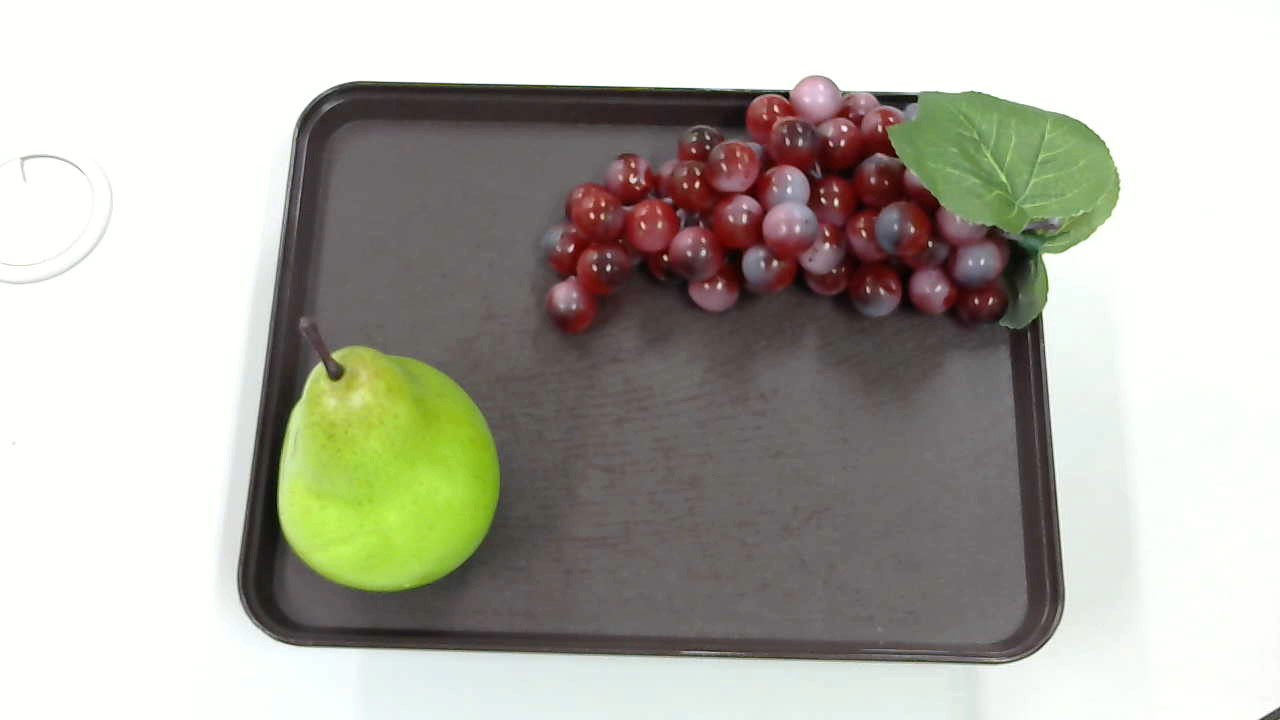grape: (524, 74, 1122, 364)
green pear: (274, 307, 500, 593)
